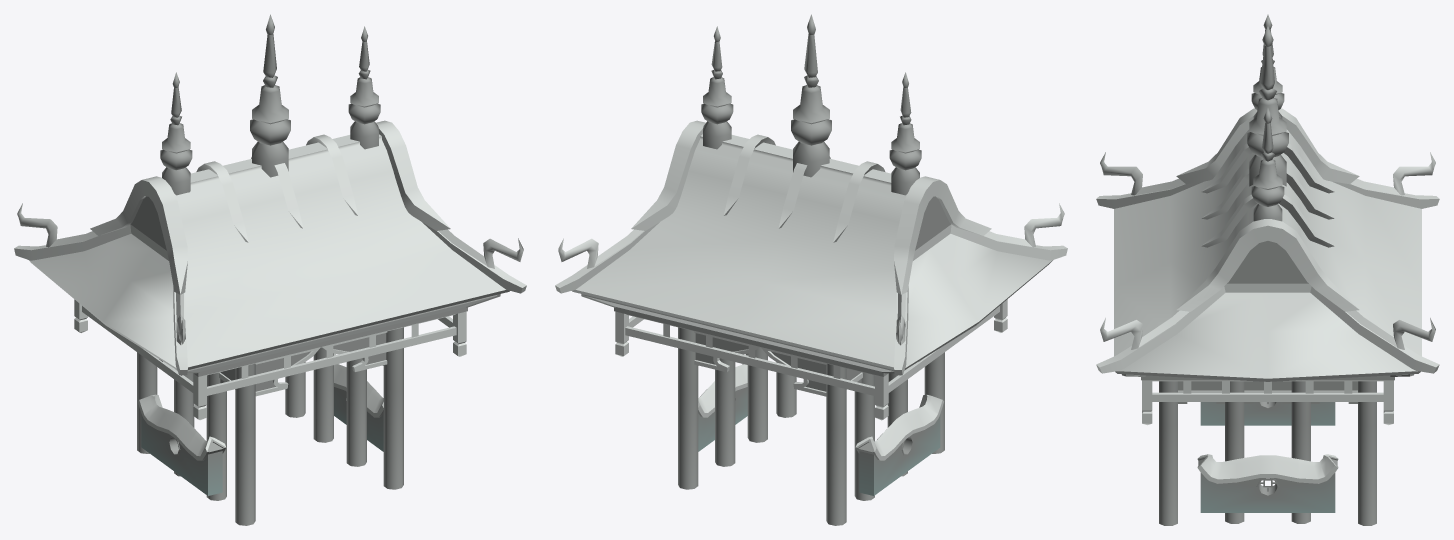
3 renders of one model, left to right at view 1: azimuth 30°, elevation 25°; view 2: azimuth 150°, elevation 25°; view 3: azimuth 270°, elevation 25°, orthographic.
Parts seen in each view (by area): view 1: G:\FFXIV-MapTools\exports\e3ec\bg\ex2\02_est_e3\fld\e3f2\bgp (×9); view 2: G:\FFXIV-MapTools\exports\e3ec\bg\ex2\02_est_e3\fld\e3f2\bgp (×9); view 3: G:\FFXIV-MapTools\exports\e3ec\bg\ex2\02_est_e3\fld\e3f2\bgp (×8).
Part boxes in pixels (bbox=[...]): G:\FFXIV-MapTools\exports\e3ec\bg\ex2\02_est_e3\fld\e3f2\bgp (×9): bbox=[14, 14, 526, 525]; G:\FFXIV-MapTools\exports\e3ec\bg\ex2\02_est_e3\fld\e3f2\bgp (×9): bbox=[555, 14, 1067, 525]; G:\FFXIV-MapTools\exports\e3ec\bg\ex2\02_est_e3\fld\e3f2\bgp (×8): bbox=[1096, 14, 1439, 525].
Bounding box in the file's own units: 24.44 × 30.55 × 20.69.
